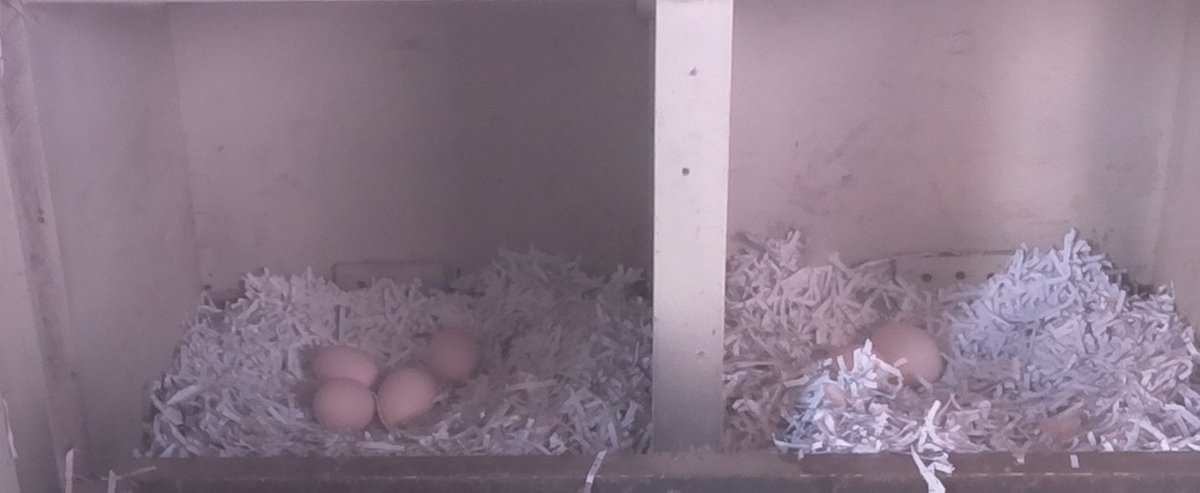egg: (865, 319, 947, 395), (378, 364, 442, 434), (308, 374, 378, 437), (422, 324, 482, 385), (305, 343, 377, 392)
